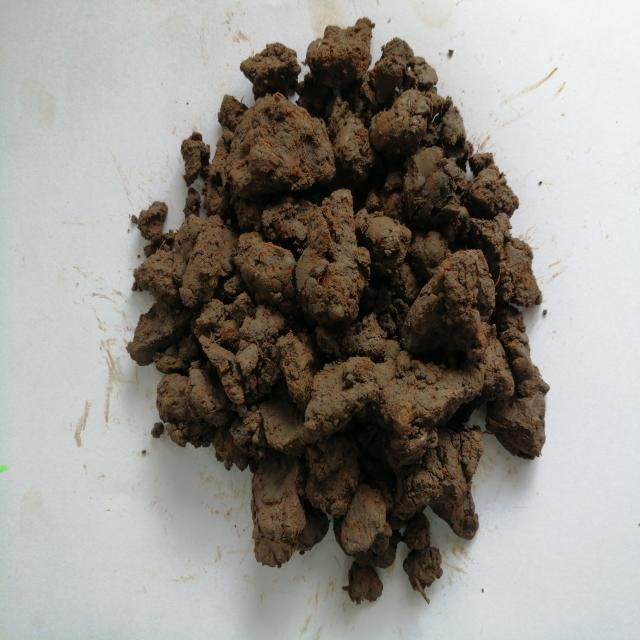soil: (172, 55, 510, 562)
